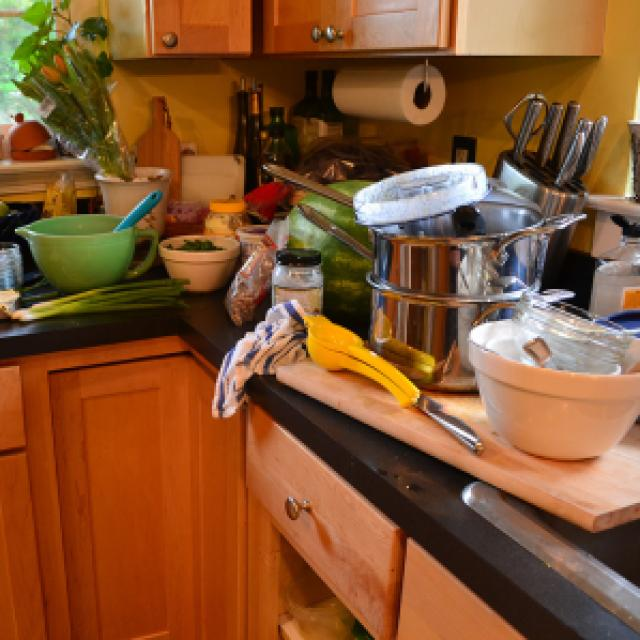mess: (135, 96, 640, 535)
